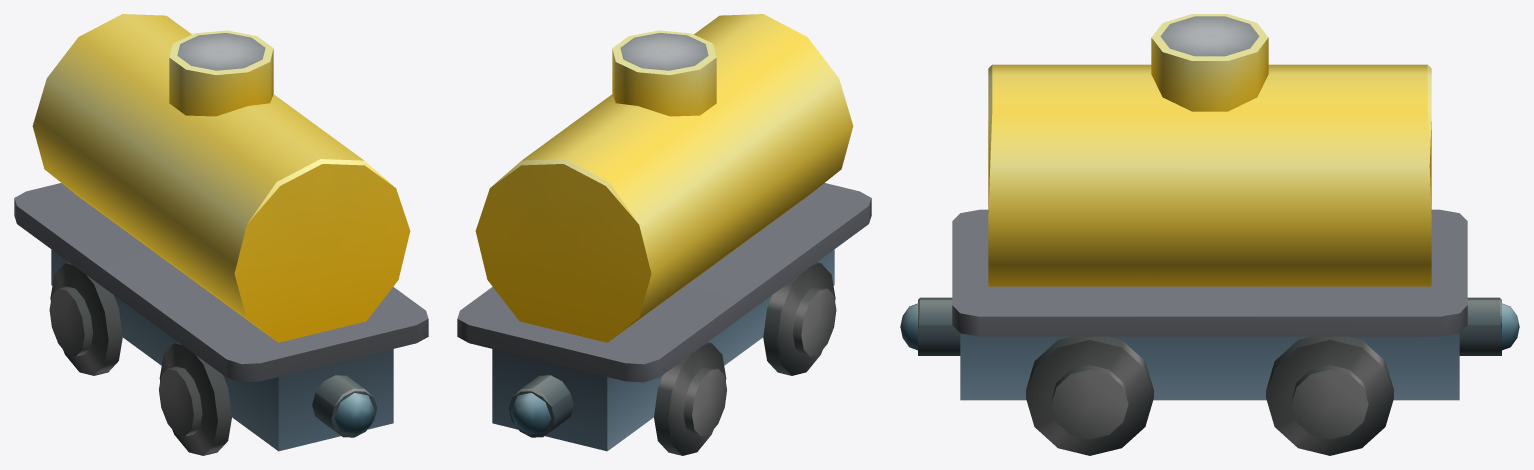
File: Carriage_Tank_A.fbx
3 renders of one model, left to right at view 1: azimuth 30°, elevation 25°; view 2: azimuth 150°, elevation 25°; view 3: azimuth 270°, elevation 25°, orthographic. The views are drawn at different scales.
Parts seen in each view (by area): view 1: Carriage_Tank_A; view 2: Carriage_Tank_A; view 3: Carriage_Tank_A.
Boxes of the visible parts, x1=… form: Carriage_Tank_A: x1=14, y1=14, x2=428, y2=455; Carriage_Tank_A: x1=457, y1=14, x2=871, y2=455; Carriage_Tank_A: x1=900, y1=14, x2=1519, y2=455.
Size of the model in its own units: 276 by 448 by 675.
